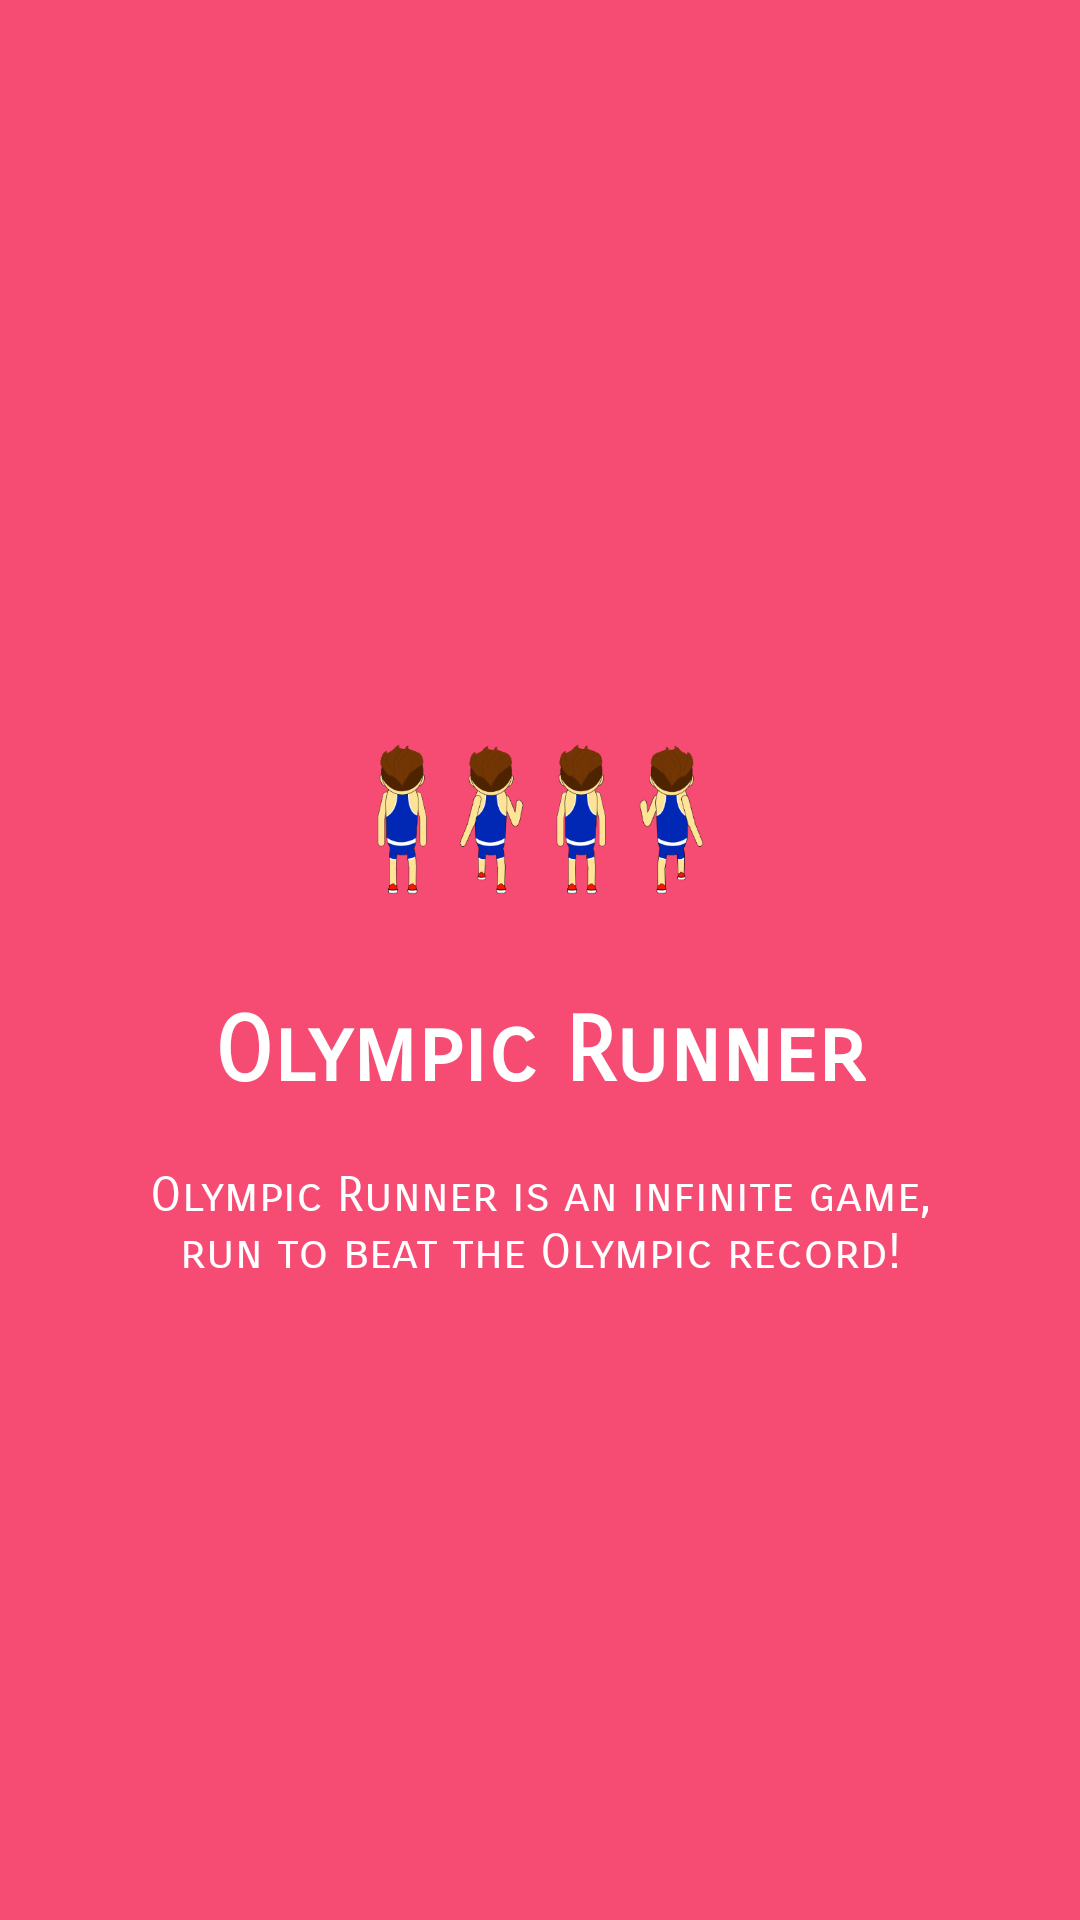

Point at icon controls on the screen. Image size 1080×1920, points as [x,y].
player: [540,819]
